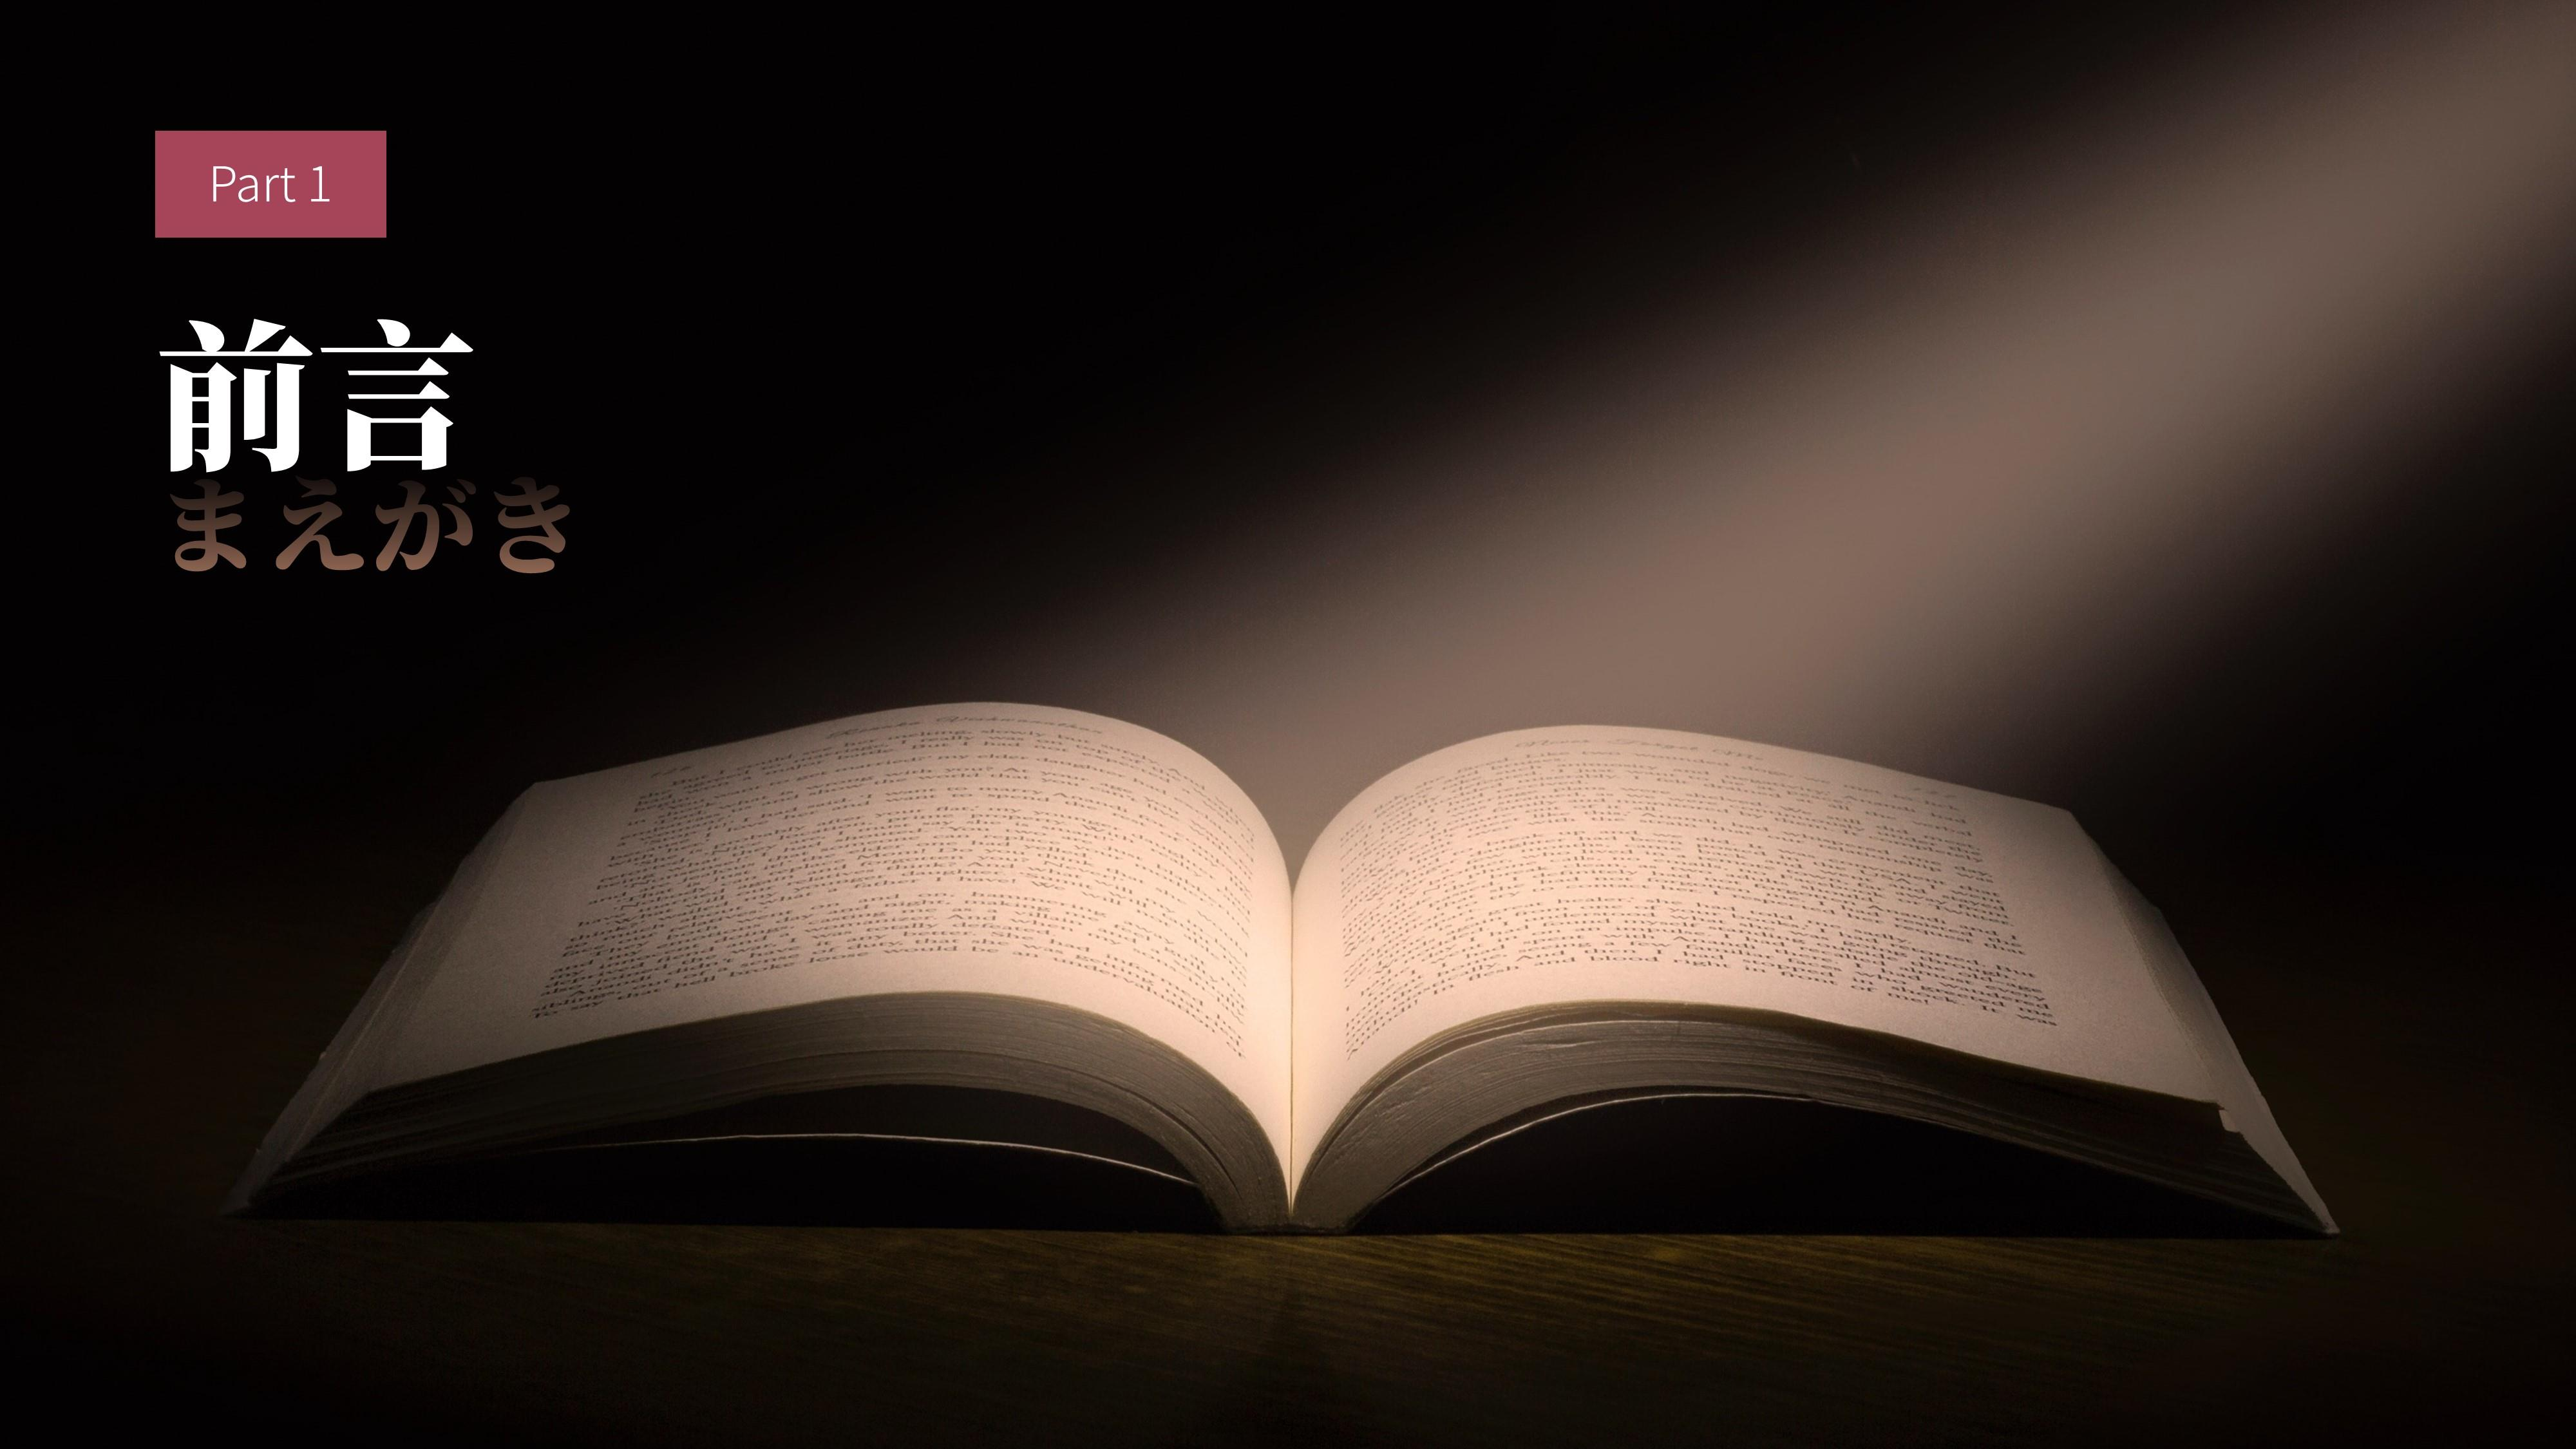book: (235, 685, 2397, 1265)
